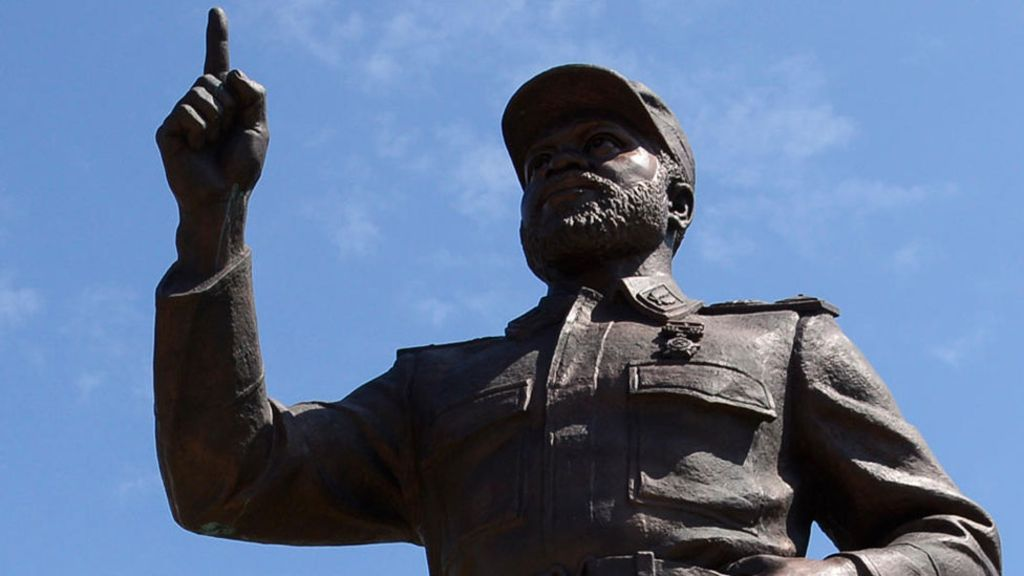person-like: (142, 2, 1002, 576)
